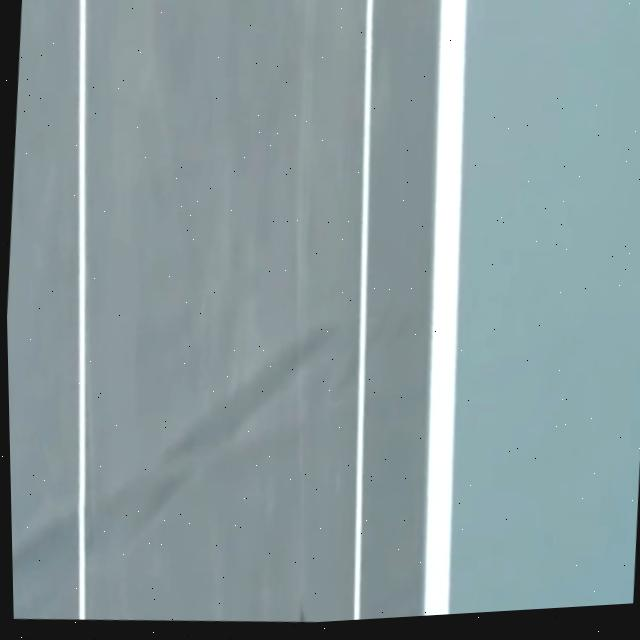left: (424, 0, 467, 616)
